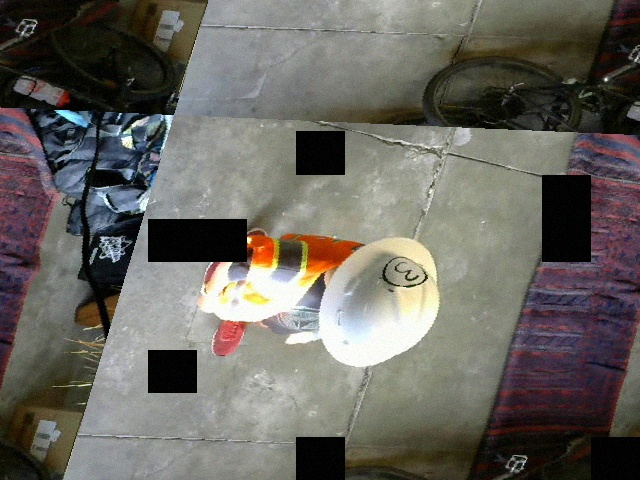three: (378, 256, 431, 287)
